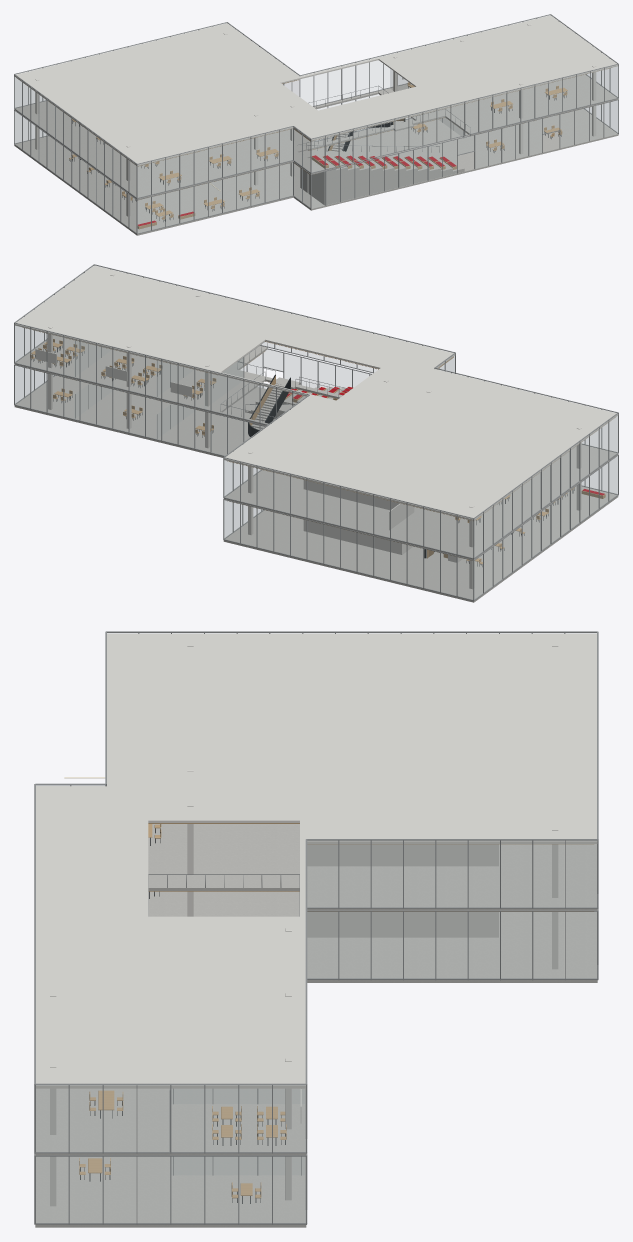
File: interior-desktop.glb
3 views of the same model, one above another, from view 1: azimuth 30°, elevation 25°; view 2: azimuth 150°, elevation 25°; view 3: azimuth 270°, elevation 25° (orthographic). The views are drawn at different scales.
Visible parts, largest first — view 1: roof · white-paint, shell-upper · glass, shell-lower · glass, floor-1 · floor-concrete, floor-2-slab · floor-concrete, shell-upper · stainless-metal, stairs · floor-concrete, shell-lower · stainless-metal, floor-1 · oak-wood, floor-2 · oak-wood, floor-2 · white-paint, stairs · red-upholstery (+4 smaller); view 2: roof · white-paint, shell-lower · glass, shell-upper · glass, floor-1 · floor-concrete, floor-2-slab · floor-concrete, shell-upper · stainless-metal, shell-lower · stainless-metal, floor-2 · white-paint, floor-1 · white-paint, floor-2 · glass, floor-2 · oak-wood, floor-1 · glass (+4 smaller); view 3: roof · white-paint, floor-2-slab · floor-concrete, floor-1 · floor-concrete, shell-lower · glass, shell-upper · glass, shell-upper · stainless-metal, floor-1 · white-paint, floor-2 · white-paint, shell-lower · stainless-metal, floor-1 · glass, floor-2 · oak-wood, floor-2 · glass (+1 smaller).
Part boxes in pixels (left/top/right/bottom): roof · white-paint: left=14, top=15, right=618, bottom=165; shell-upper · glass: left=15, top=60, right=617, bottom=197; shell-lower · glass: left=15, top=94, right=617, bottom=232; floor-1 · floor-concrete: left=14, top=109, right=618, bottom=235; floor-2-slab · floor-concrete: left=14, top=74, right=618, bottom=199; shell-upper · stainless-metal: left=14, top=14, right=618, bottom=198; stairs · floor-concrete: left=297, top=121, right=464, bottom=205; shell-lower · stainless-metal: left=14, top=96, right=618, bottom=234; floor-1 · oak-wood: left=69, top=123, right=562, bottom=229; floor-2 · oak-wood: left=72, top=82, right=567, bottom=183; floor-2 · white-paint: left=35, top=23, right=596, bottom=180; stairs · red-upholstery: left=312, top=155, right=456, bottom=166; roof · white-paint: left=15, top=265, right=618, bottom=520; shell-lower · glass: left=15, top=350, right=617, bottom=599; shell-upper · glass: left=15, top=324, right=617, bottom=557; floor-1 · floor-concrete: left=14, top=375, right=618, bottom=602; floor-2-slab · floor-concrete: left=14, top=335, right=618, bottom=559; shell-upper · stainless-metal: left=14, top=264, right=618, bottom=559; shell-lower · stainless-metal: left=14, top=348, right=618, bottom=600; floor-2 · white-paint: left=35, top=273, right=581, bottom=547; floor-1 · white-paint: left=48, top=373, right=581, bottom=589; floor-2 · glass: left=76, top=341, right=243, bottom=407; floor-2 · oak-wood: left=30, top=339, right=510, bottom=522; floor-1 · glass: left=76, top=384, right=193, bottom=437; roof · white-paint: left=36, top=633, right=597, bottom=1088; floor-2-slab · floor-concrete: left=35, top=824, right=597, bottom=1155; floor-1 · floor-concrete: left=35, top=891, right=597, bottom=1227; shell-lower · glass: left=36, top=912, right=596, bottom=1222; shell-upper · glass: left=36, top=633, right=596, bottom=1151; shell-upper · stainless-metal: left=34, top=631, right=598, bottom=1153; floor-1 · white-paint: left=50, top=891, right=558, bottom=1206; floor-2 · white-paint: left=50, top=643, right=558, bottom=1134; shell-lower · stainless-metal: left=34, top=908, right=598, bottom=1224; floor-1 · glass: left=172, top=1157, right=304, bottom=1174; floor-2 · oak-wood: left=89, top=824, right=286, bottom=1139; floor-2 · glass: left=172, top=1089, right=304, bottom=1103.
Size of the model in its own units: 76.46 by 11.4 by 40.22.
Materials: 9 (4 with a texture image).
